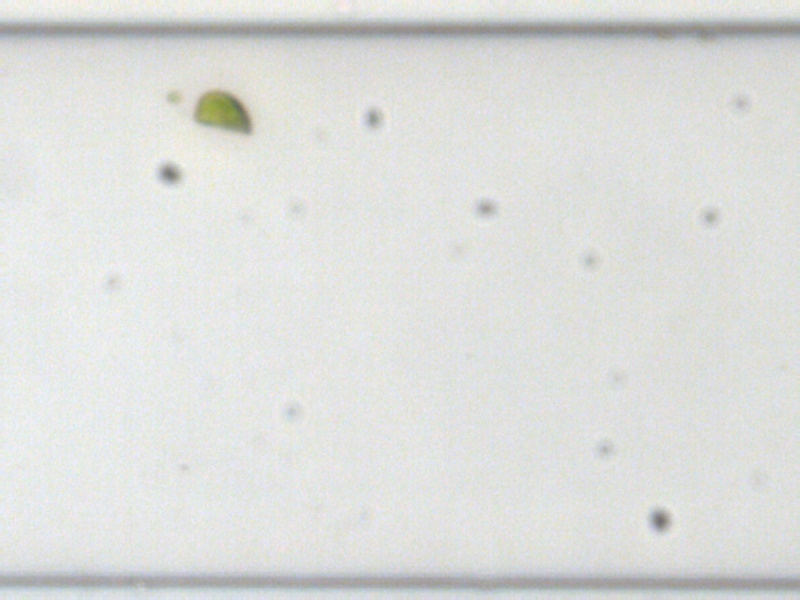Chlorella: (160, 89, 184, 104)
Platymonas: (190, 86, 254, 135)
